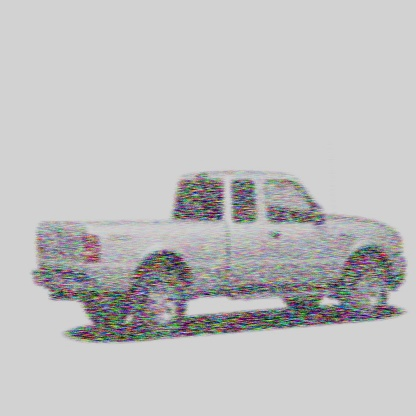Vehicle: (31, 169, 414, 340)
